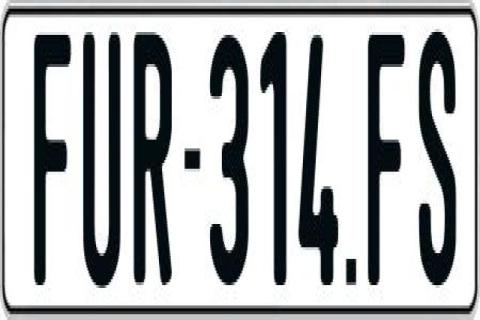0: (296, 32, 342, 282), (210, 27, 250, 286), (260, 24, 288, 294)
F: (33, 35, 71, 299), (366, 29, 404, 291)
R: (132, 32, 170, 302)
S: (416, 32, 457, 294)
U: (82, 32, 120, 306)
